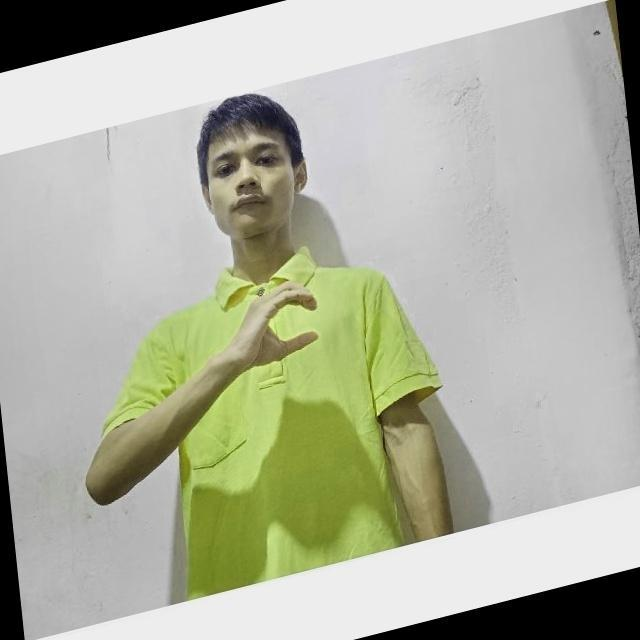C: (240, 281, 331, 381)
